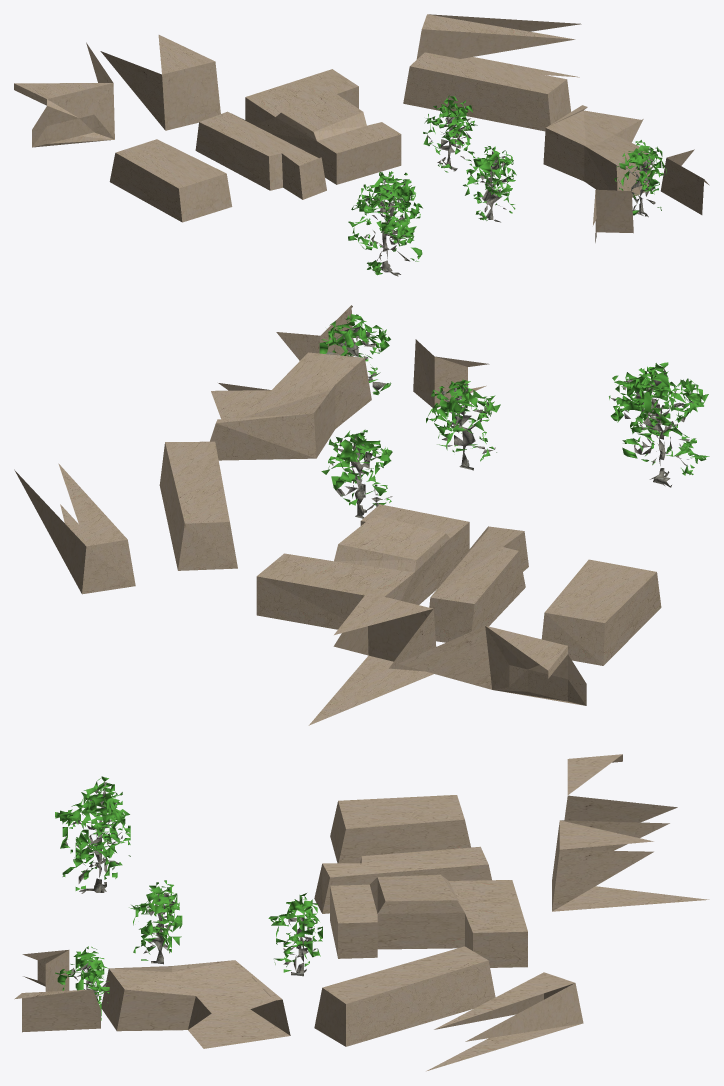
Rendered from tile_1_0.gltf.
The picture shows the model from 3 angles, top to bottom: view 1: azimuth 30°, elevation 25°; view 2: azimuth 150°, elevation 25°; view 3: azimuth 270°, elevation 25°; orthographic projection. The views are drawn at different scales.
Parts seen in each view (by area): view 1: Plane.011@tile_1_0, Bodhi Tree_Bodhi_front_2_Mat_0.044@tile_1_0; view 2: Plane.011@tile_1_0, Bodhi Tree_Bodhi_front_2_Mat_0.044@tile_1_0; view 3: Plane.011@tile_1_0, Bodhi Tree_Bodhi_front_2_Mat_0.044@tile_1_0.
Boxes of the visible parts, x1,y1,x2,y2 form: Plane.011@tile_1_0: (14, 14, 709, 242); Bodhi Tree_Bodhi_front_2_Mat_0.044@tile_1_0: (348, 95, 666, 276); Plane.011@tile_1_0: (14, 305, 661, 725); Bodhi Tree_Bodhi_front_2_Mat_0.044@tile_1_0: (319, 314, 709, 518); Plane.011@tile_1_0: (14, 754, 709, 1071); Bodhi Tree_Bodhi_front_2_Mat_0.044@tile_1_0: (55, 776, 322, 1020).
Size of the model in its own units: 75.1 by 14.16 by 79.29.
Materials: 3 (2 with a texture image).
